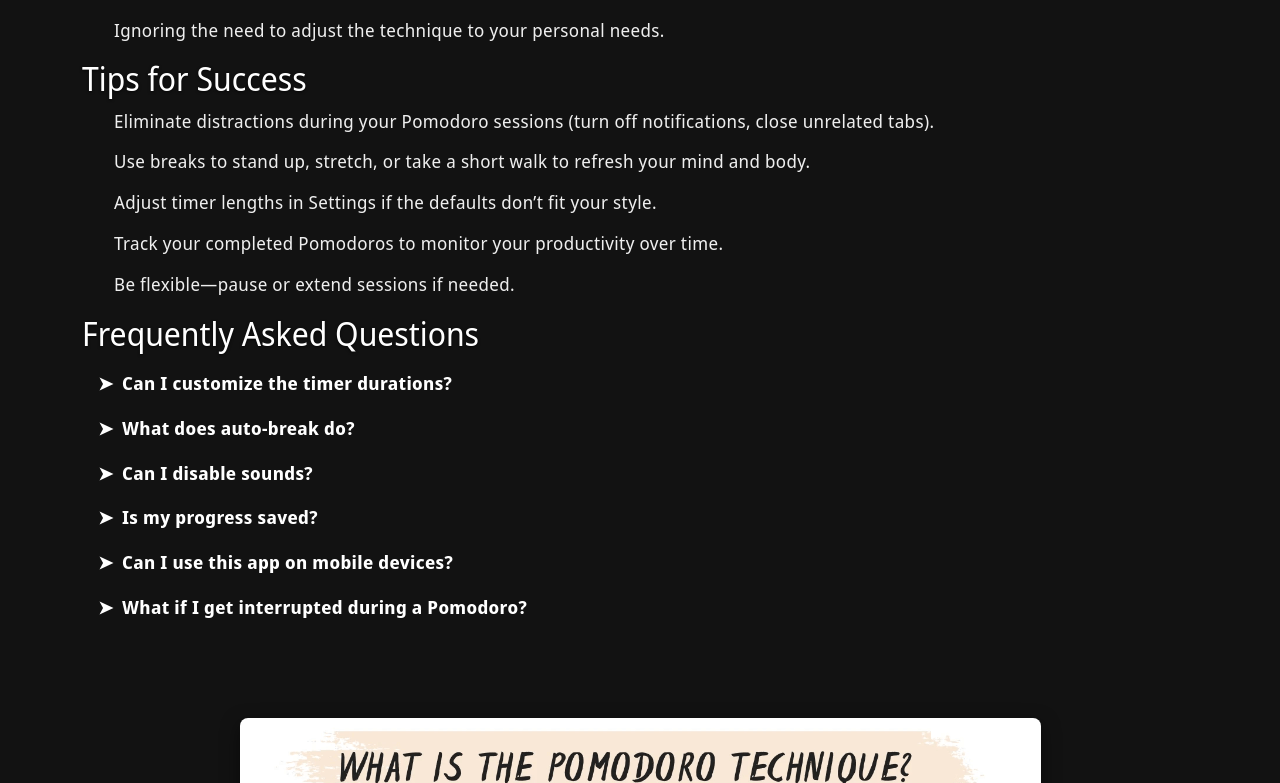
Test: Help component › toggles FAQ answers on question click
(page scrolled)
expect the text "yes! visit the settings page" is not shown: met
// Click to open
Click the button "Can I customize the timer durations?".
click(287, 383)  # box top-left (122, 371), bottom-right (452, 395)
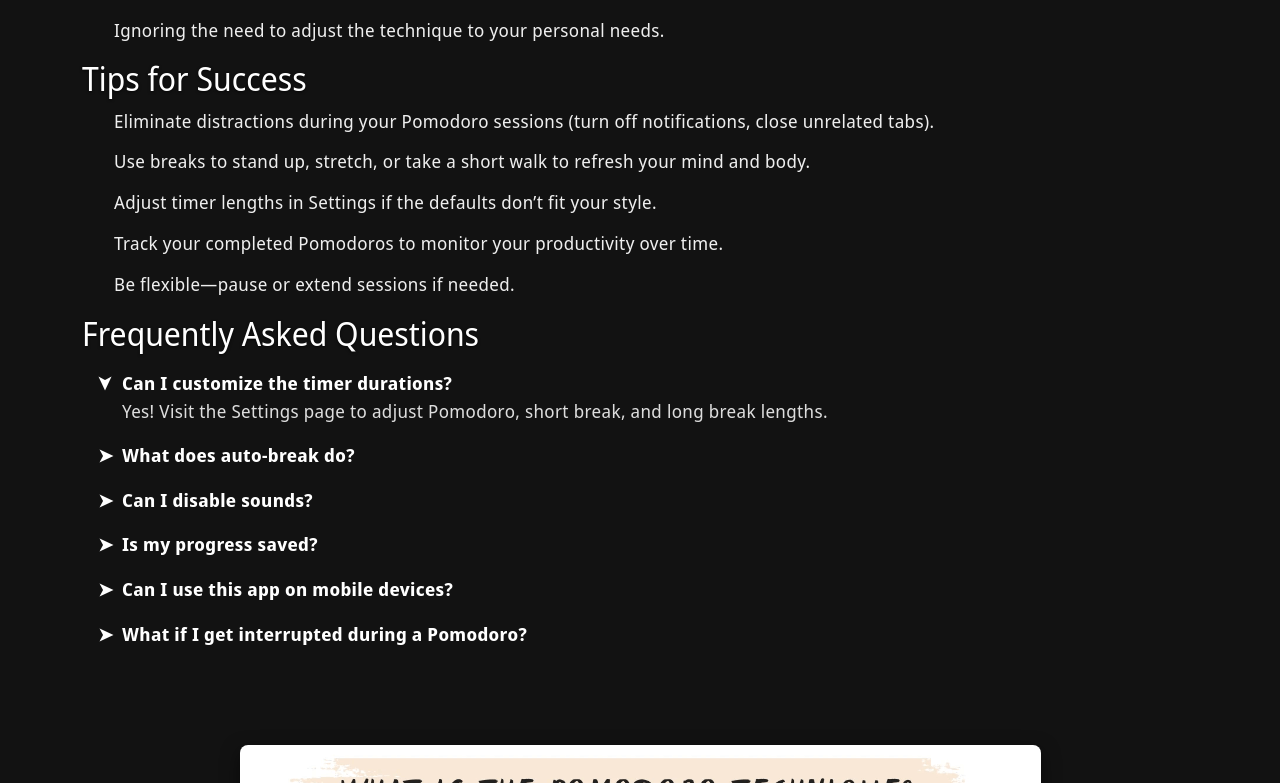
expect the text "Yes! Visit the Settings page" is shown: met, box top-left (122, 399), bottom-right (828, 423)
// Click again to close
Click the button "Can I customize the timer durations?".
click(287, 383)  # box top-left (122, 371), bottom-right (452, 395)
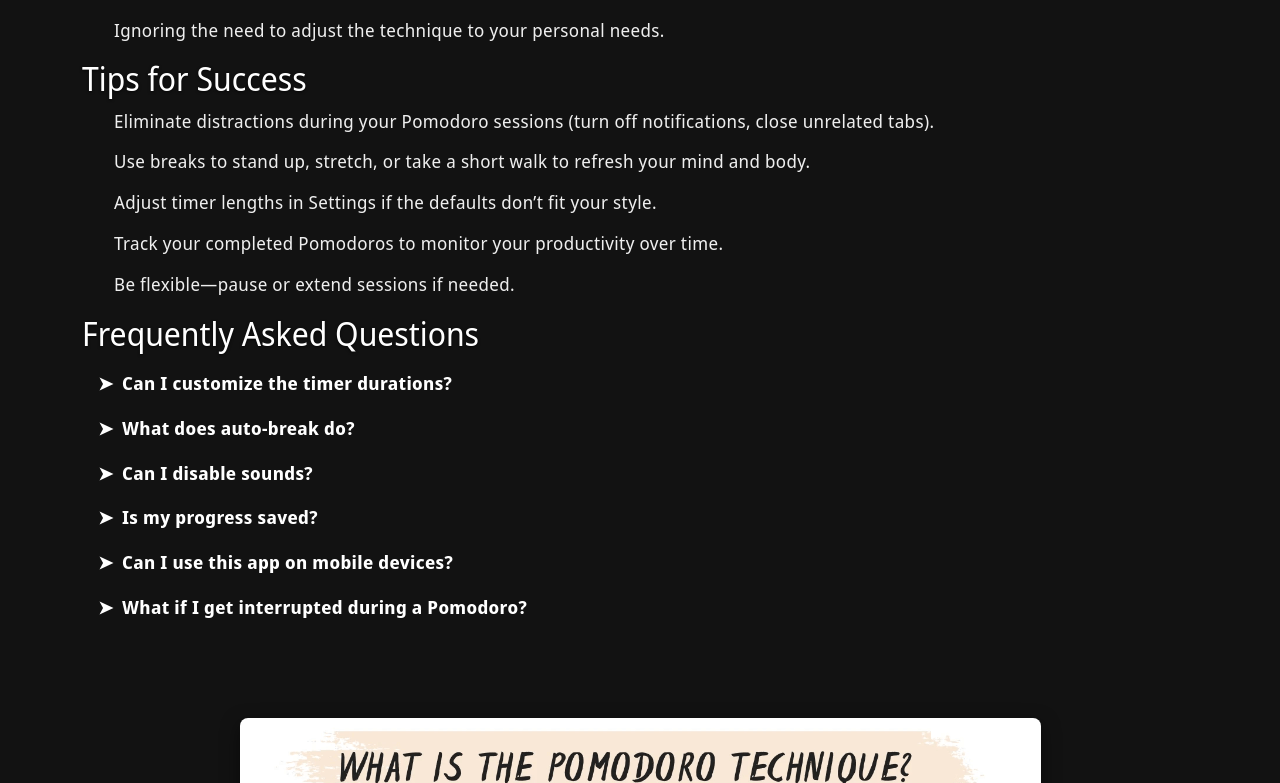
expect the text "Yes! Visit the Settings page" is gone: met
